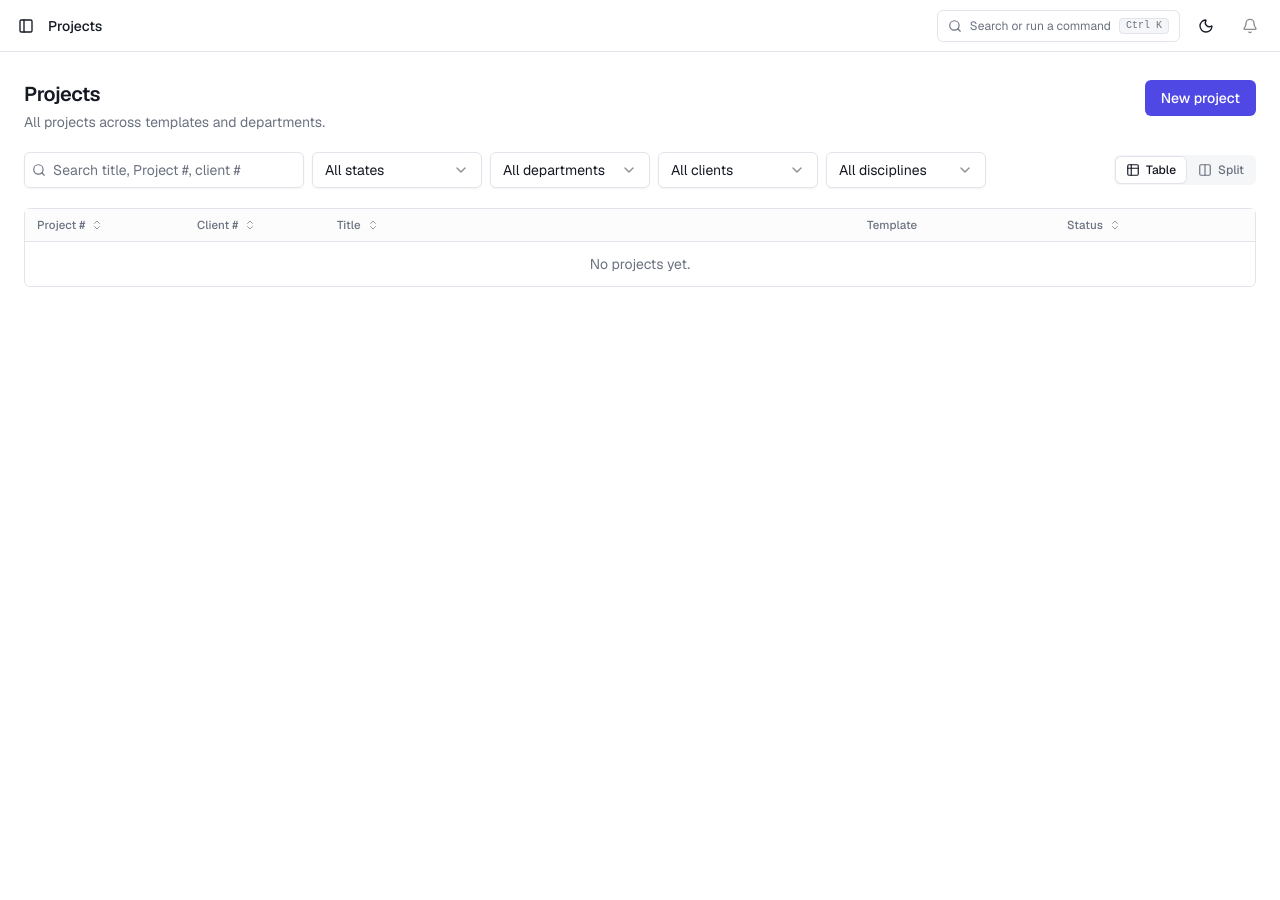
Test: ProjectsListPage › opens the create sheet with the expected fields
Click the button "New project": (1200,98) [1145,80,1256,116]
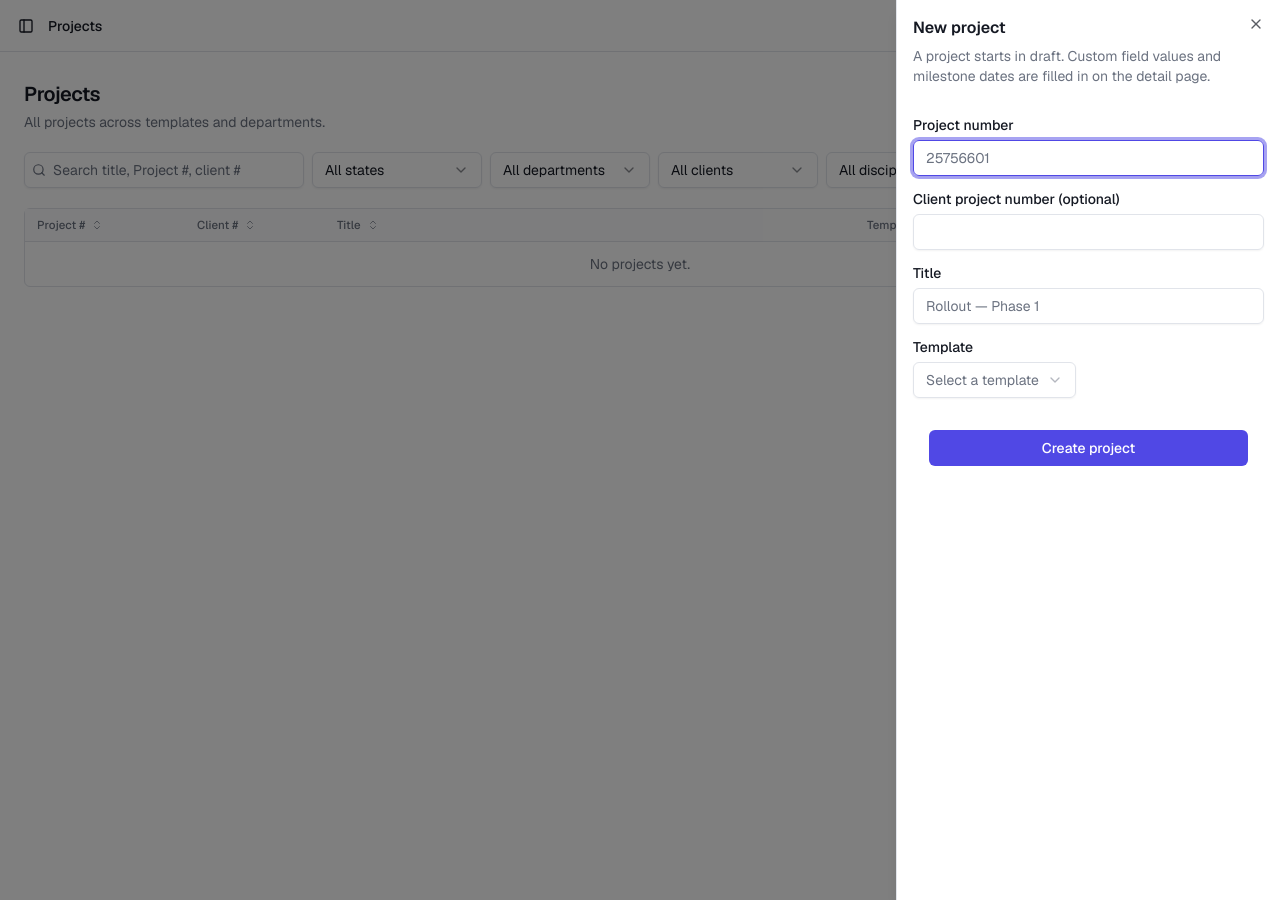
Check: the field labelled "Project number" is shown, box [913,140,1264,176]
Check: the field labelled "Client project number (optional)" is shown, box [913,214,1264,250]
Check: the field labelled "Title" is shown, box [913,288,1264,324]
